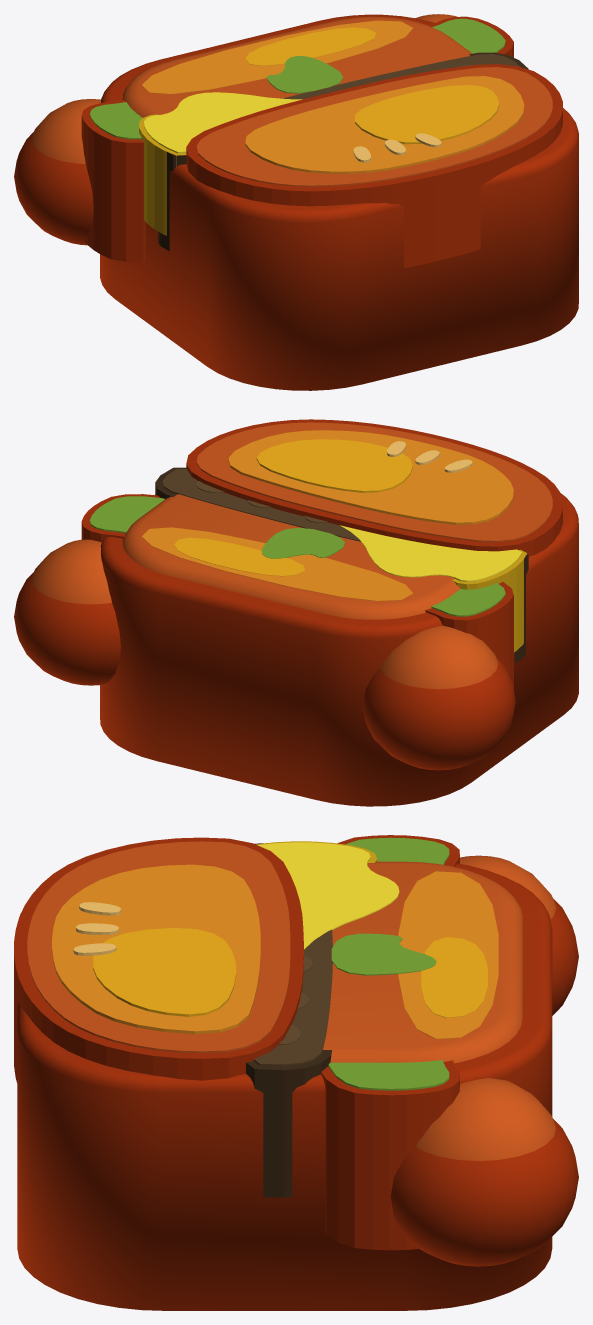
The model's file is body_hamburguer.fbx.
The picture shows the model from 3 angles, top to bottom: view 1: azimuth 30°, elevation 25°; view 2: azimuth 150°, elevation 25°; view 3: azimuth 270°, elevation 25°; orthographic projection. The views are drawn at different scales.
Parts seen in each view (by area): view 1: body_hamburguer_corpo, body_hamburguer_mao_esq; view 2: body_hamburguer_corpo, body_hamburguer_mao_esq, body_hamburguer_mao; view 3: body_hamburguer_corpo, body_hamburguer_mao, body_hamburguer_mao_esq.
Part boxes in pixels (x1,y1,x2,y2): body_hamburguer_corpo: (81, 14, 578, 390); body_hamburguer_mao_esq: (14, 99, 100, 245); body_hamburguer_corpo: (81, 419, 578, 806); body_hamburguer_mao_esq: (362, 625, 515, 770); body_hamburguer_mao: (14, 539, 120, 685); body_hamburguer_corpo: (14, 835, 552, 1310); body_hamburguer_mao: (390, 1078, 578, 1266); body_hamburguer_mao_esq: (460, 855, 578, 1015).
Bounding box in the file's own units: 5.4 × 2.15 × 4.22.
Materials: 1 (1 with a texture image).
